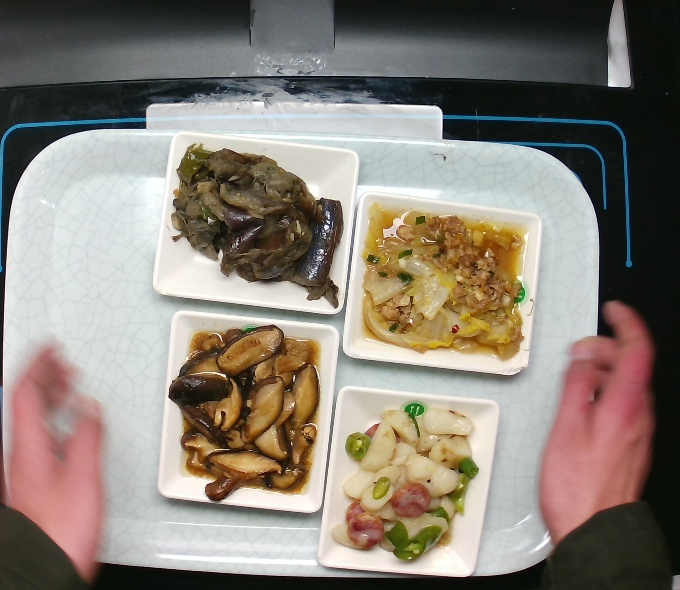wcq-MaTiGuo: (333, 400, 486, 568)
wcq-MoGu: (173, 321, 324, 507)
wcq-QieZi: (164, 135, 346, 318)
wcq-RouMoBaiCai: (358, 201, 534, 371)
